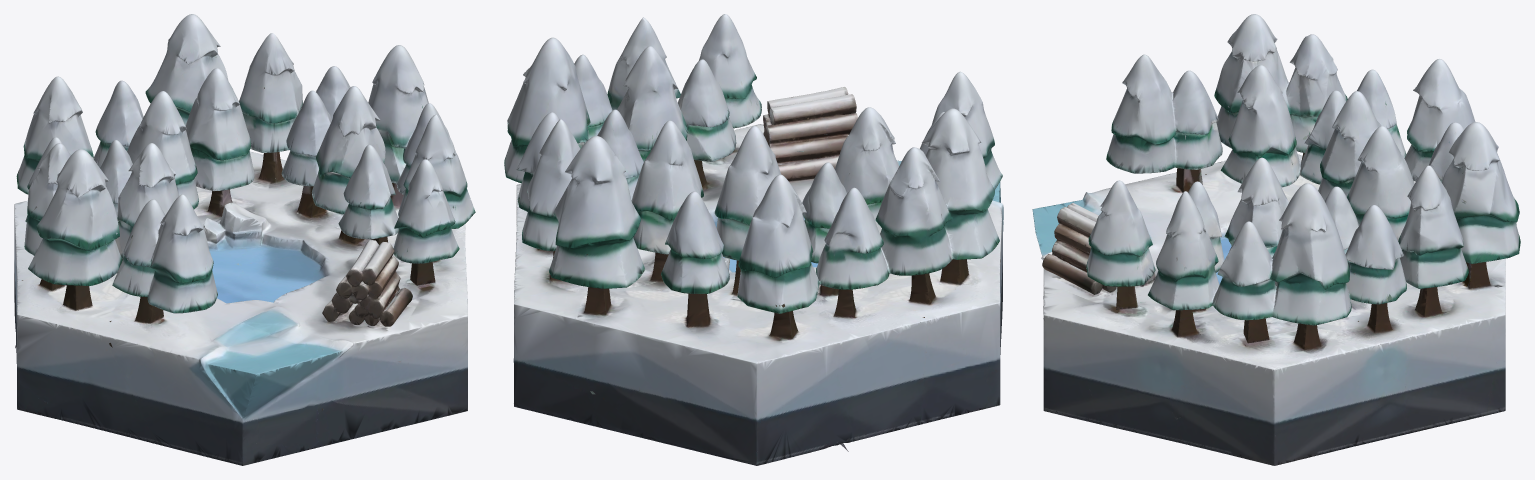
File: snowtile_lv3.glb
The picture shows the model from 3 angles, left to right: view 1: azimuth 30°, elevation 25°; view 2: azimuth 150°, elevation 25°; view 3: azimuth 270°, elevation 25°; orthographic projection. The views are drawn at different scales.
Size of the model in its own units: 1.9 by 1.06 by 1.77.
1 material, 1 textured.
